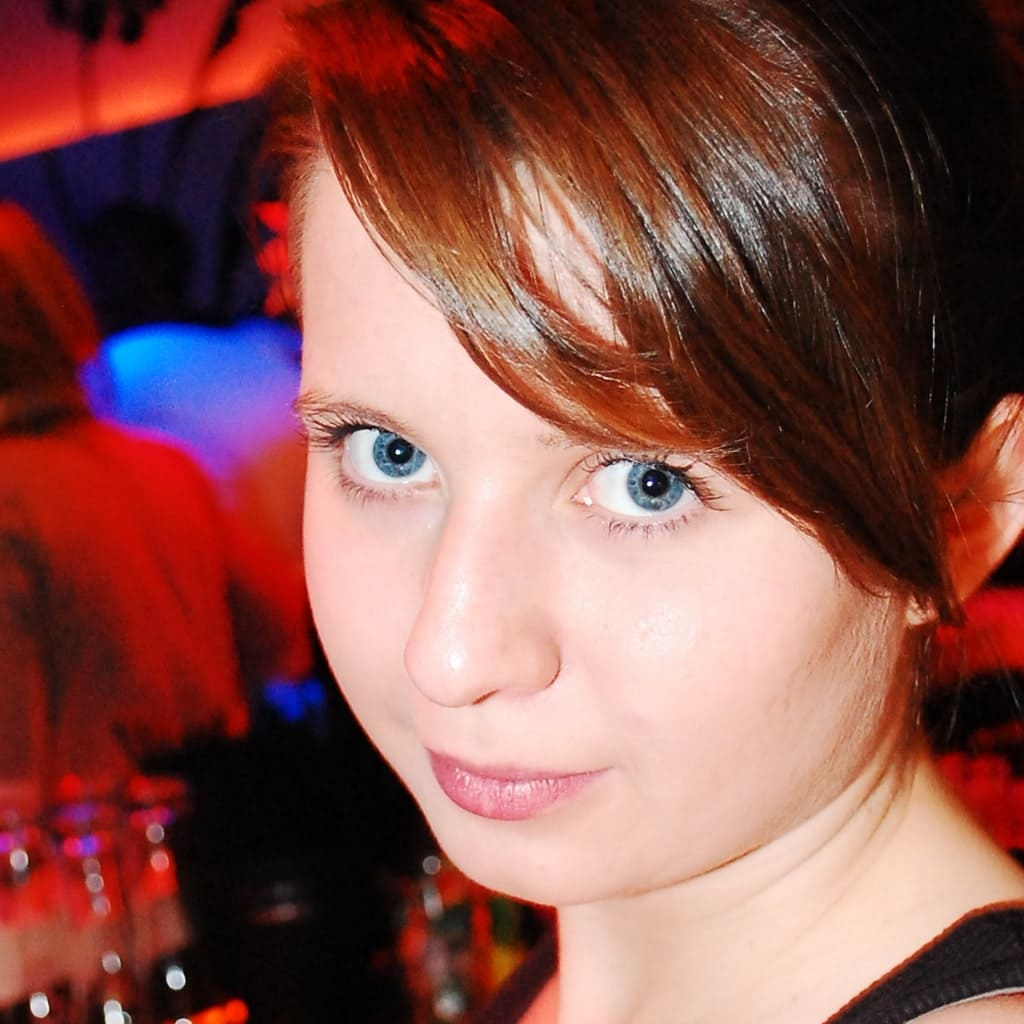without_mask: (306, 155, 924, 898)
